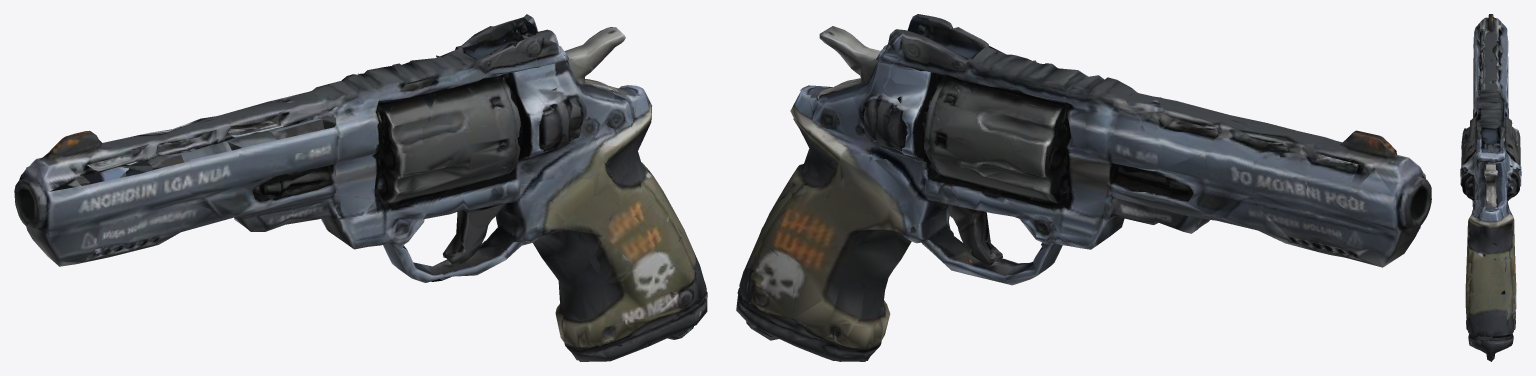
Rendered from pistol_lite.glb.
3 views of the same model, side by side, from view 1: azimuth 30°, elevation 25°; view 2: azimuth 150°, elevation 25°; view 3: azimuth 270°, elevation 25° (orthographic). The views are drawn at different scales.
Size of the model in its own units: 1.9 by 0.9384 by 0.2767.
1 material, 1 textured.
